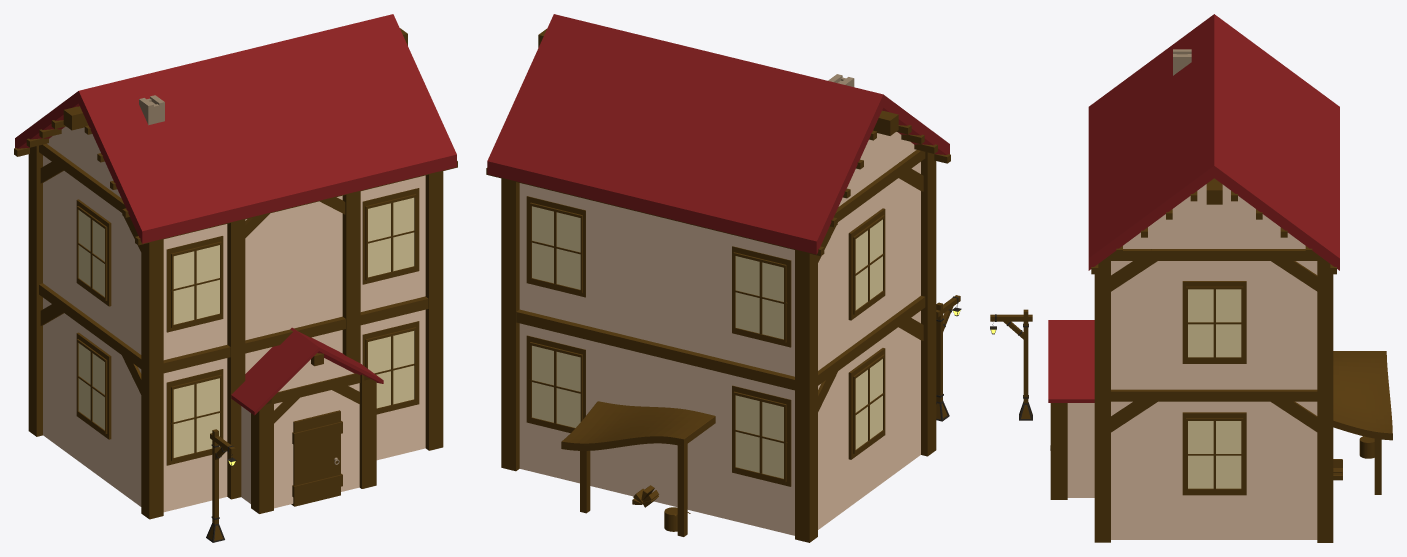
The model's file is T2HouseV1.5(Fixed).fbx.
3 views of the same model, side by side, from view 1: azimuth 30°, elevation 25°; view 2: azimuth 150°, elevation 25°; view 3: azimuth 270°, elevation 25° (orthographic). The views are drawn at different scales.
Visible parts, largest first — view 1: Cube, Cube.002, Cube.007, Cube.022, Cube.018, Cube.003, Cube.004, Cube.010, Cube.006, Cube.036, Cube.041, Cube.021 (+14 smaller); view 2: Cube, Cube.022, Cube.018, Cube.006, Cube.005, Cube.026, Cube.003, Cube.036, Cube.021, Cube.009, Cube.030, Cube.017 (+10 smaller); view 3: Cube, Cube.002, Cube.026, Cube.005, Cube.004, Cube.030, Cube.009, Cube.035, Cube.045, Cube.010, Cube.008, Cube.029 (+4 smaller).
Part boxes in pixels (x1,y1,x2,y2): Cube: [15, 14, 456, 512]; Cube.002: [231, 327, 383, 508]; Cube.007: [227, 191, 360, 499]; Cube.022: [171, 194, 416, 327]; Cube.018: [171, 327, 416, 461]; Cube.003: [141, 239, 163, 519]; Cube.004: [425, 171, 443, 450]; Cube.010: [251, 374, 376, 513]; Cube.006: [28, 145, 42, 436]; Cube.036: [163, 296, 428, 373]; Cube.041: [291, 410, 340, 506]; Cube.021: [166, 188, 419, 332]; Cube: [487, 14, 949, 535]; Cube.022: [529, 202, 786, 342]; Cube.018: [529, 342, 786, 482]; Cube.006: [795, 250, 817, 542]; Cube.005: [501, 178, 519, 471]; Cube.026: [561, 401, 715, 450]; Cube.003: [921, 152, 936, 456]; Cube.036: [516, 309, 794, 390]; Cube.021: [526, 196, 791, 347]; Cube.009: [853, 354, 884, 453]; Cube.030: [853, 215, 884, 314]; Cube.017: [526, 335, 791, 486]; Cube: [1088, 14, 1339, 539]; Cube.002: [1048, 320, 1094, 497]; Cube.026: [1333, 351, 1392, 440]; Cube.005: [1317, 254, 1333, 542]; Cube.004: [1094, 255, 1110, 542]; Cube.030: [1186, 286, 1243, 359]; Cube.009: [1186, 418, 1243, 491]; Cube.035: [1111, 389, 1317, 401]; Cube.045: [1111, 249, 1317, 260]; Cube.010: [1050, 403, 1067, 499]; Cube.008: [1182, 412, 1246, 495]; Cube.029: [1182, 281, 1246, 363].
Size of the model in its own units: 818 by 904 by 859.
